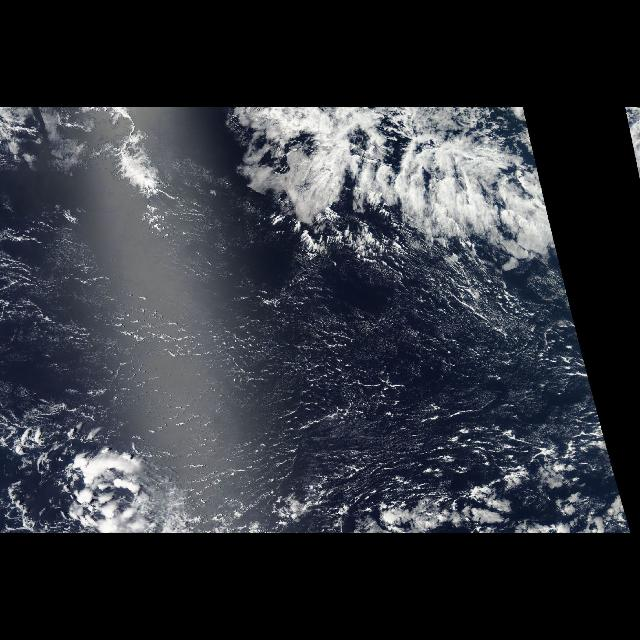Gravel: (212, 298, 594, 420)
